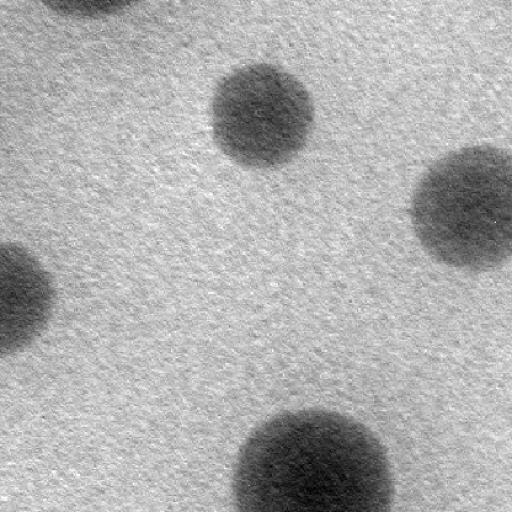Nanoparticles: (234, 408, 392, 510), (410, 144, 512, 267), (208, 62, 314, 165), (2, 244, 55, 358), (40, 1, 142, 16)
